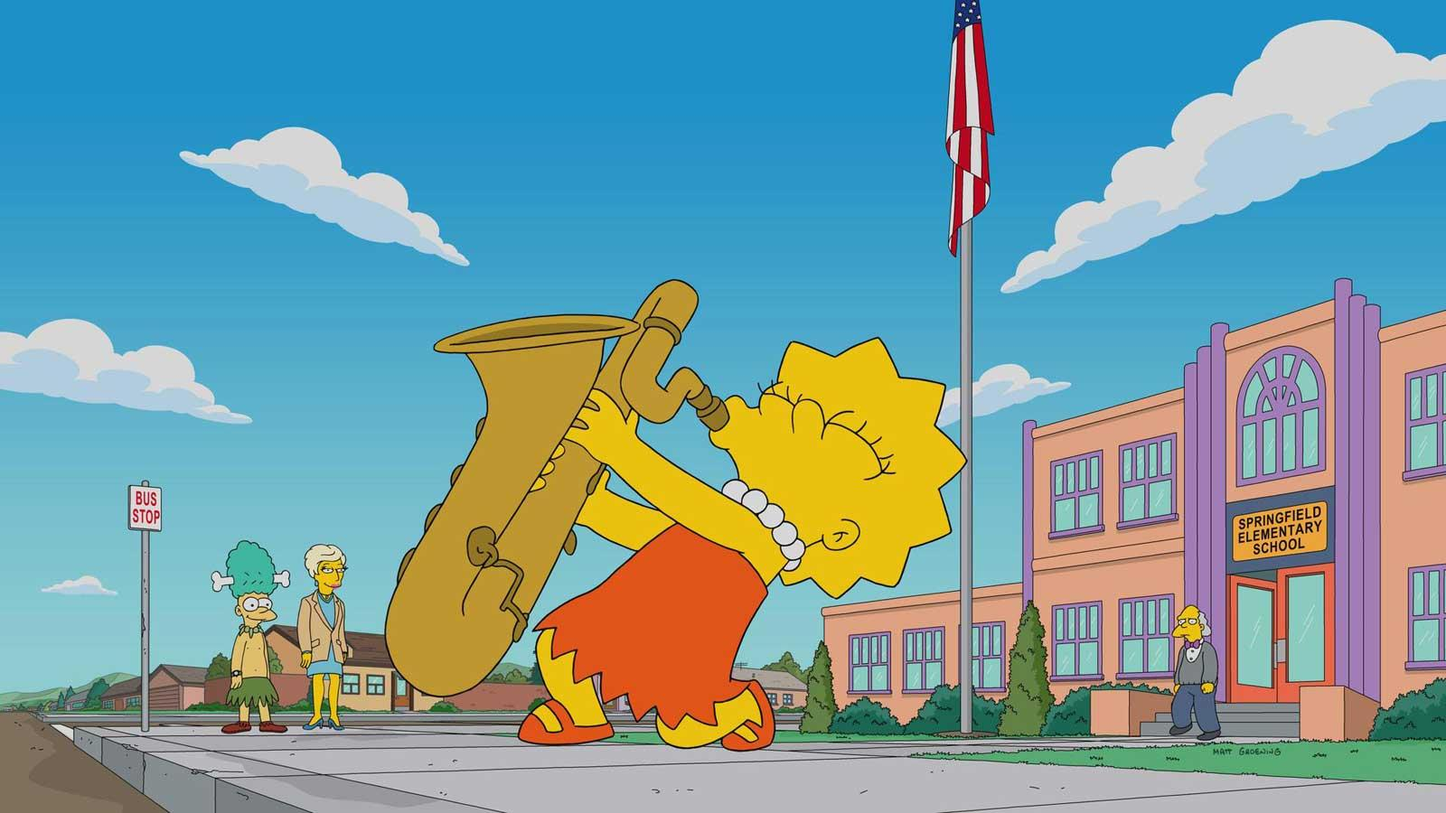Lisa: (393, 264, 982, 761)
